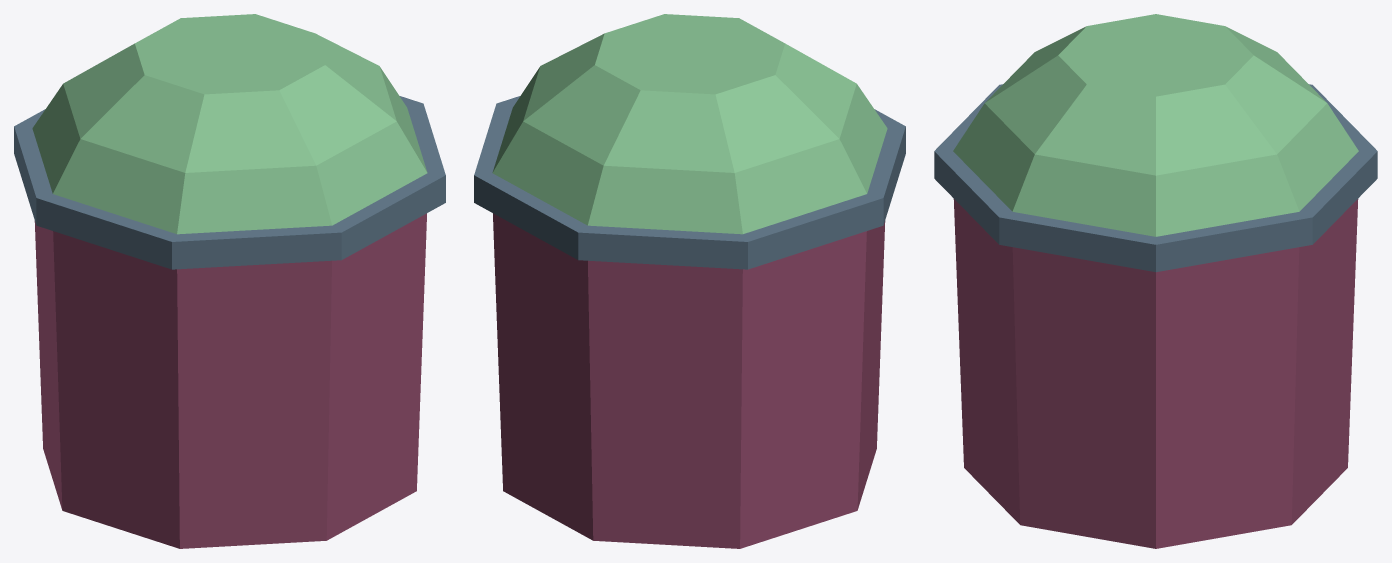
The model's file is cest_cloth.glb.
3 views of the same model, side by side, from view 1: azimuth 30°, elevation 25°; view 2: azimuth 150°, elevation 25°; view 3: azimuth 270°, elevation 25° (orthographic).
Parts seen in each view (by area): view 1: cest cloth; view 2: cest cloth; view 3: cest cloth.
Part boxes in pixels (bbox=[...]): cest cloth: bbox=[14, 14, 445, 548]; cest cloth: bbox=[474, 14, 905, 548]; cest cloth: bbox=[934, 14, 1377, 548].
Size of the model in its own units: 1.39 by 1.42 by 1.39.
Materials: 3 (3 with a texture image).
